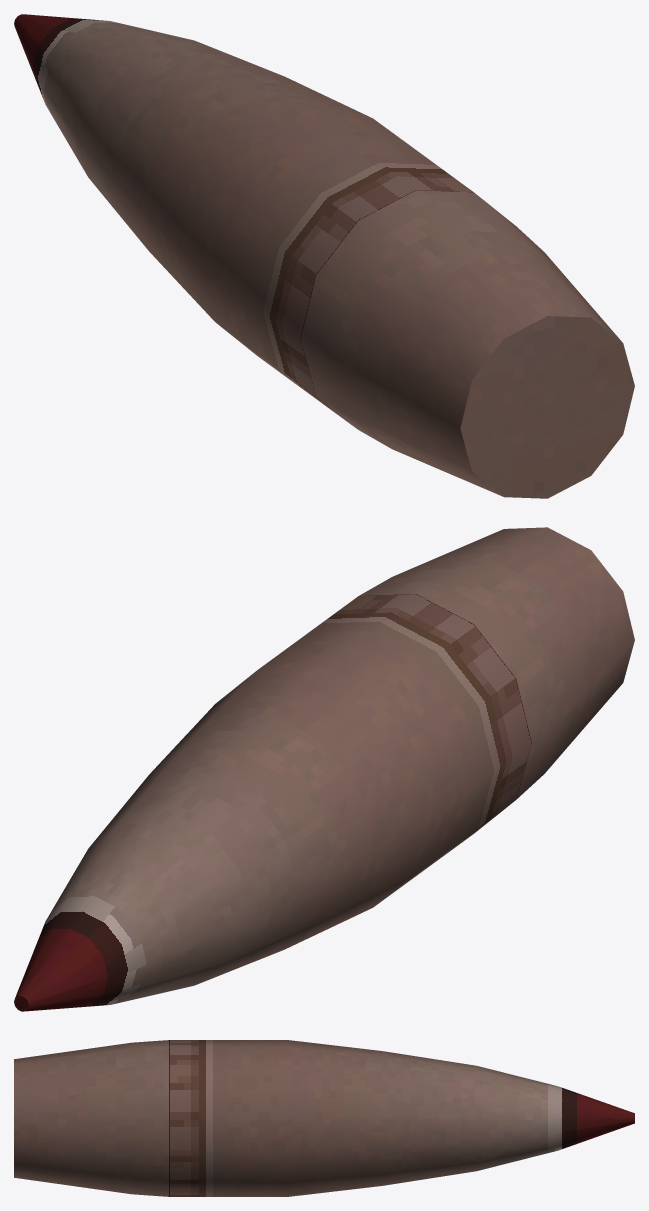
File: obus.obj
3 views of the same model, one above another, from view 1: azimuth 30°, elevation 25°; view 2: azimuth 150°, elevation 25°; view 3: azimuth 270°, elevation 25° (orthographic). The views are drawn at different scales.
Visible parts, largest first — view 1: obus; view 2: obus; view 3: obus.
Part boxes in pixels (x1=…): obus: x1=14, y1=14, x2=634, y2=498; obus: x1=14, y1=527, x2=634, y2=1011; obus: x1=14, y1=1040, x2=634, y2=1196.
Bounding box in the file's own units: 0.7623 × 0.7623 × 3.01.
Materials: 1 (1 with a texture image).
